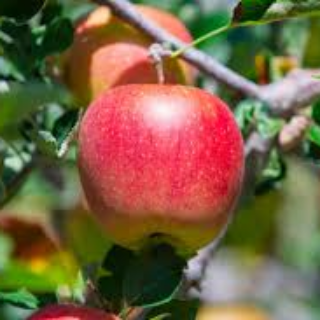tao: (74, 78, 252, 260)
